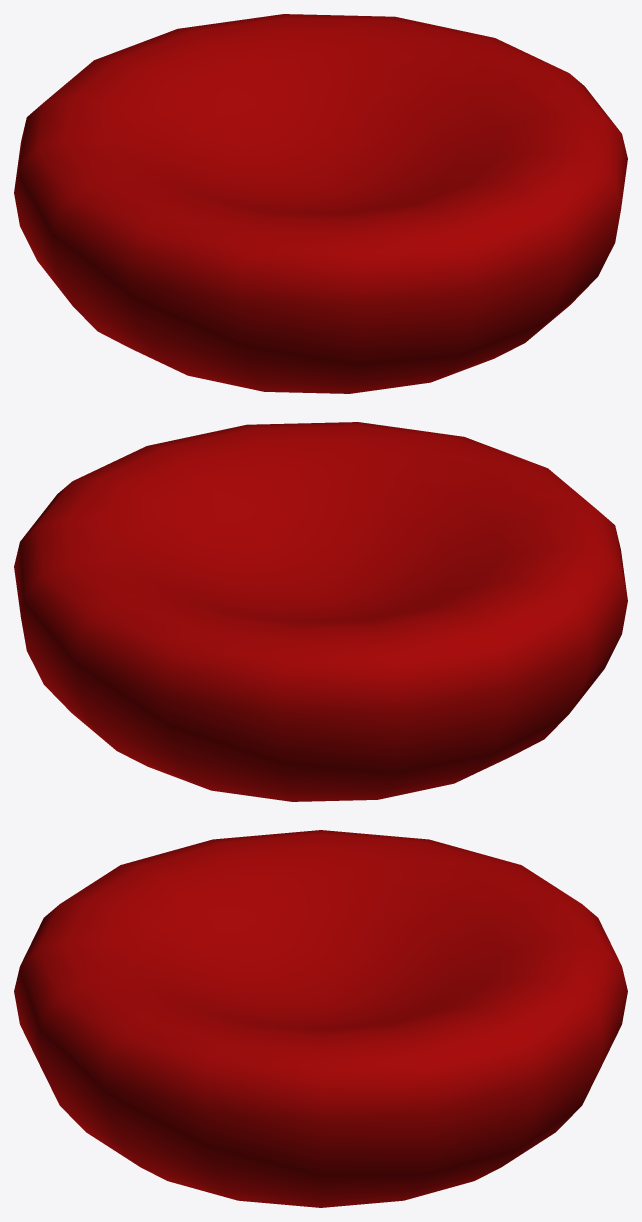
The model's file is redBloodCellsHighPoly.fbx.
3 renders of one model, top to bottom at view 1: azimuth 30°, elevation 25°; view 2: azimuth 150°, elevation 25°; view 3: azimuth 270°, elevation 25°, orthographic.
Parts seen in each view (by area): view 1: redBloodCell_geoSub; view 2: redBloodCell_geoSub; view 3: redBloodCell_geoSub.
Boxes of the visible parts, x1,y1,x2,y2 form: redBloodCell_geoSub: [14, 14, 627, 393]; redBloodCell_geoSub: [14, 422, 627, 801]; redBloodCell_geoSub: [14, 830, 627, 1207].
Size of the model in its own units: 5.89 by 2.16 by 5.89.
